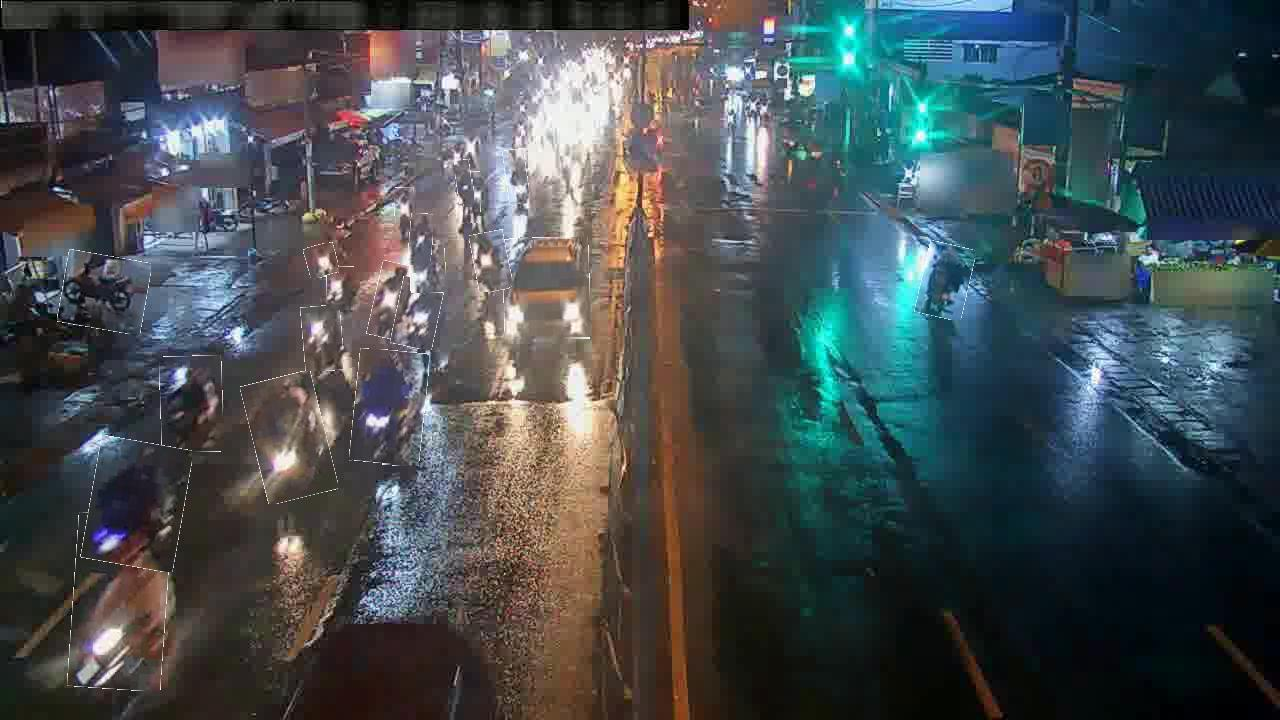container: (503, 238, 591, 340)
motorbike: (70, 514, 169, 691), (85, 439, 188, 570), (247, 374, 333, 502), (352, 350, 428, 466), (60, 253, 150, 332), (160, 356, 224, 453), (918, 242, 973, 319), (394, 278, 442, 350), (370, 262, 411, 339), (302, 305, 343, 372), (472, 231, 510, 292), (409, 244, 447, 294), (504, 149, 529, 205), (327, 266, 355, 311), (408, 214, 433, 262), (305, 244, 339, 278), (463, 172, 482, 224), (456, 160, 474, 205), (395, 187, 415, 224)
